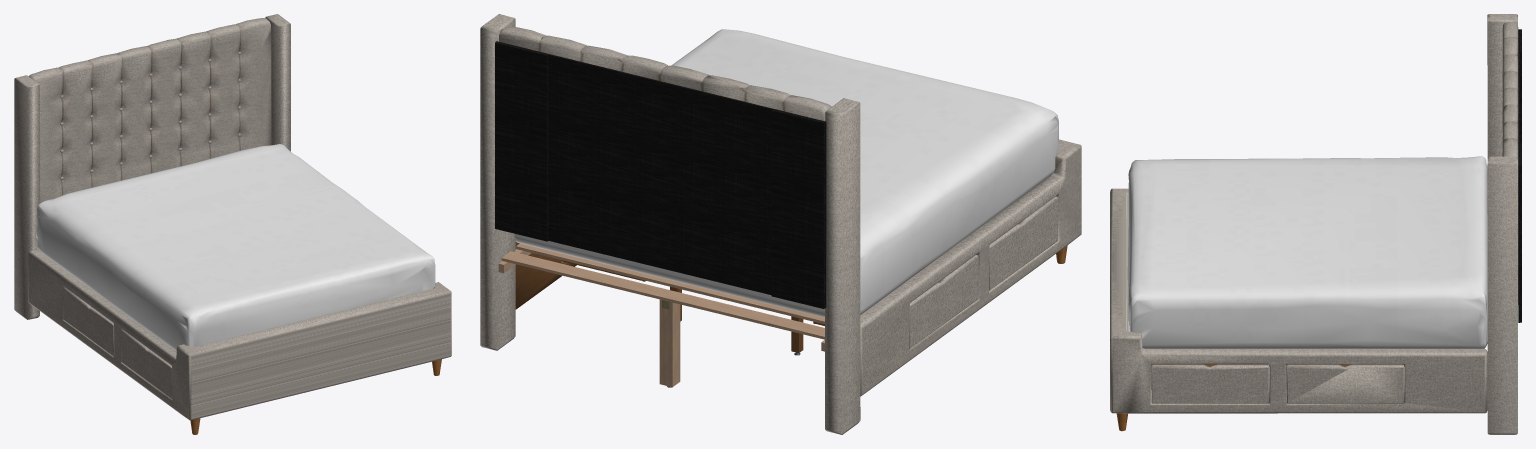
The model's file is abo-B075QDMWTM.glb.
3 views of the same model, side by side, from view 1: azimuth 30°, elevation 25°; view 2: azimuth 150°, elevation 25°; view 3: azimuth 270°, elevation 25° (orthographic). The views are drawn at different scales.
Visible parts, largest first — view 1: RootNode; view 2: RootNode; view 3: RootNode.
Boxes of the visible parts, x1=… form: RootNode: x1=14, y1=14, x2=451, y2=434; RootNode: x1=480, y1=14, x2=1081, y2=434; RootNode: x1=1110, y1=14, x2=1521, y2=434.
Size of the model in its own units: 2.04 by 1.75 by 2.37.
Materials: 1 (1 with a texture image).
